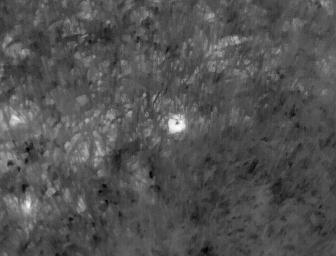landmine: (166, 111, 187, 134)
